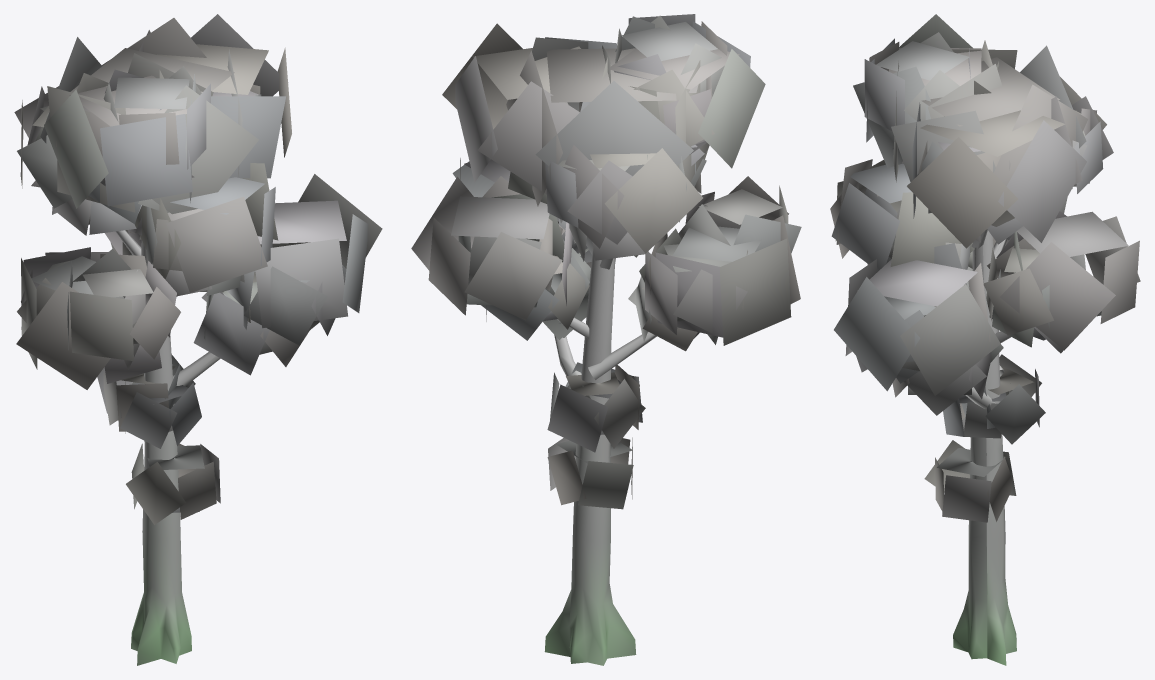
Rendered from jungleB_lod1.glb.
The picture shows the model from 3 angles, left to right: view 1: azimuth 30°, elevation 25°; view 2: azimuth 150°, elevation 25°; view 3: azimuth 270°, elevation 25°; orthographic projection. The views are drawn at different scales.
Parts seen in each view (by area): view 1: jungleB_lod1; view 2: jungleB_lod1; view 3: jungleB_lod1.
Boxes of the visible parts, x1=… form: jungleB_lod1: x1=14, y1=14, x2=382, y2=665; jungleB_lod1: x1=411, y1=14, x2=801, y2=665; jungleB_lod1: x1=830, y1=14, x2=1140, y2=665.
Bounding box in the file's own units: 23.43 × 38.69 × 18.7.
